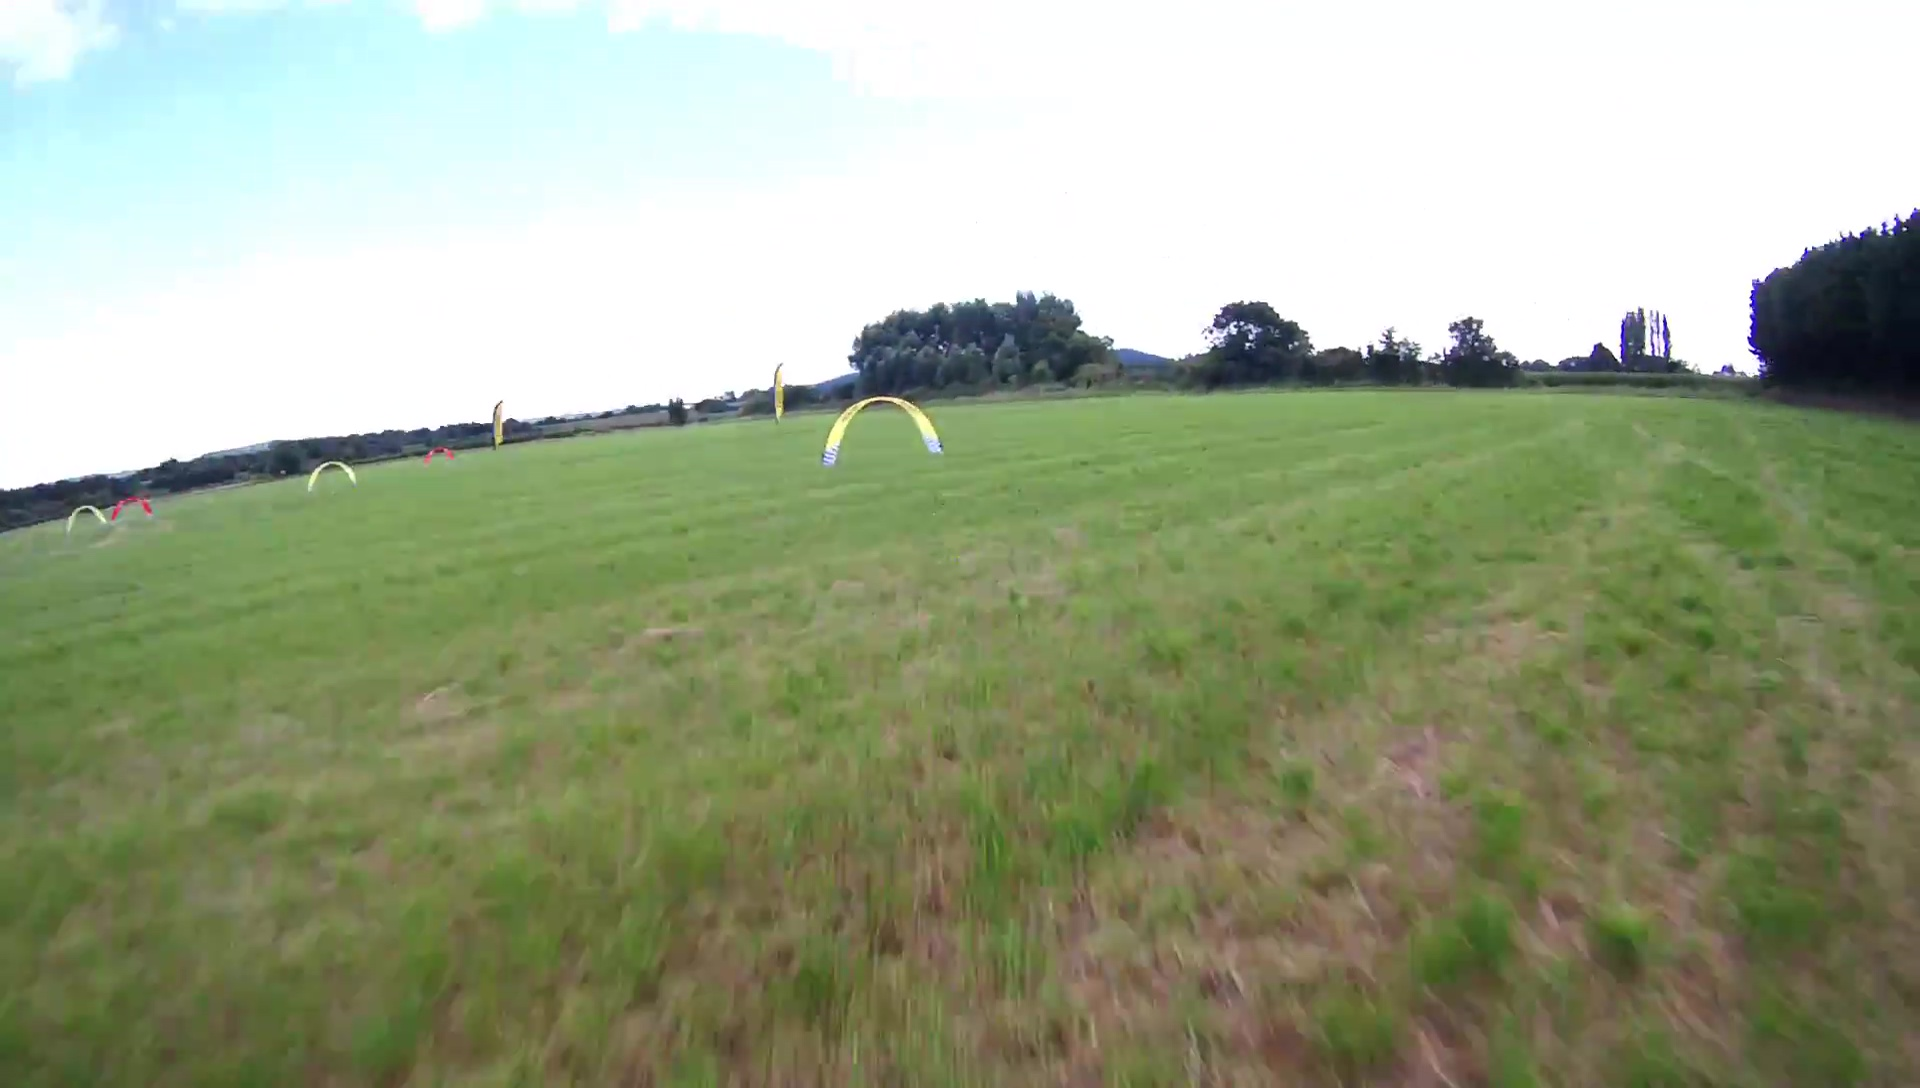gate: (822, 393, 943, 469), (305, 460, 360, 496), (109, 495, 156, 525), (65, 505, 107, 533), (423, 444, 459, 466)
